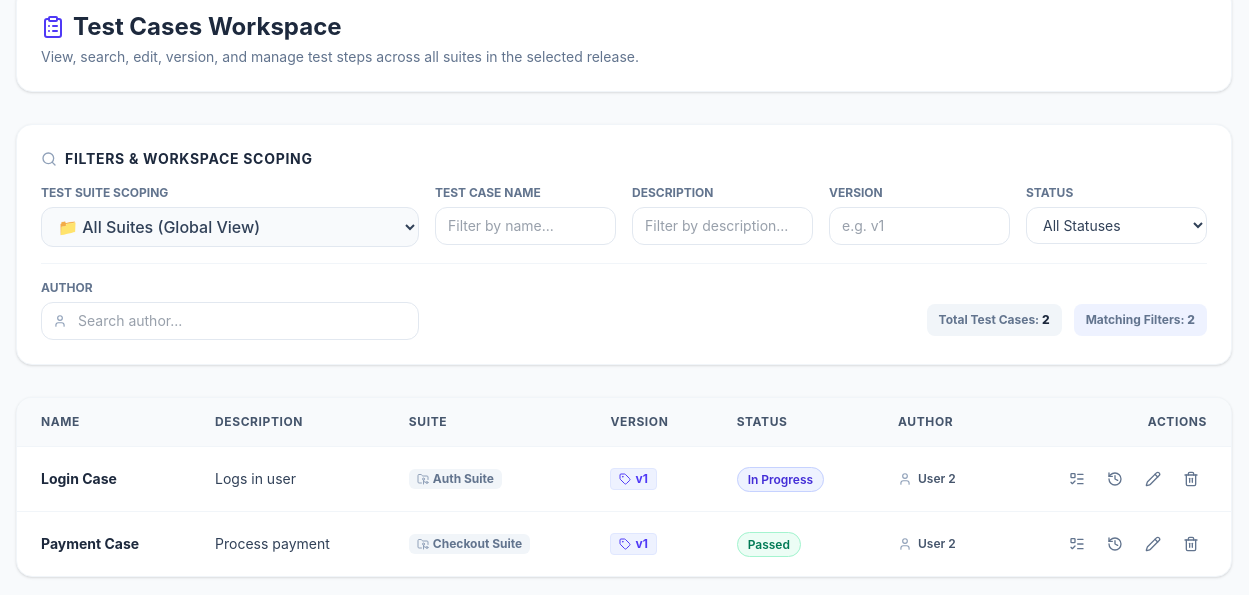
Scenario: TestCaseListGlobal Component Spec › filters test cases correctly when a test suite is selected
This screenshot has width=1249, height=595.
Expected: the text "Login Case" is shown, [41, 470, 117, 487]
Expected: the text "Payment Case" is shown, [41, 535, 139, 552]
// Select the "Auth Suite" dropdown option
Select "📄 Auth Suite" in the dropdown below "Test Suite Scoping" at [230, 227], box [41, 207, 419, 247]
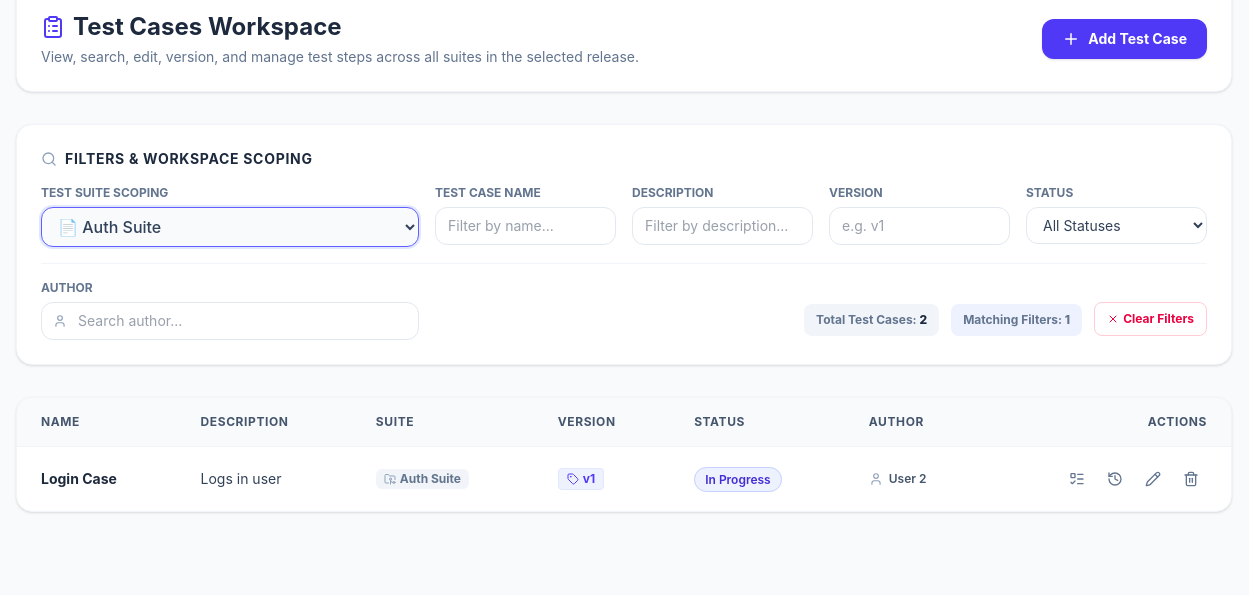
Expected: the text "Login Case" is shown, [41, 470, 117, 487]
Expected: the text "Payment Case" is gone
